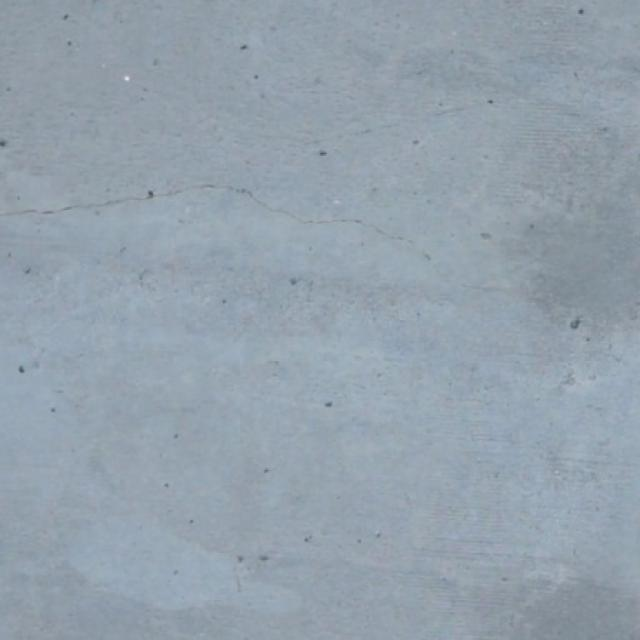Diagonal Crack: (301, 97, 501, 148)
Horizontal Crack: (0, 184, 524, 297)
